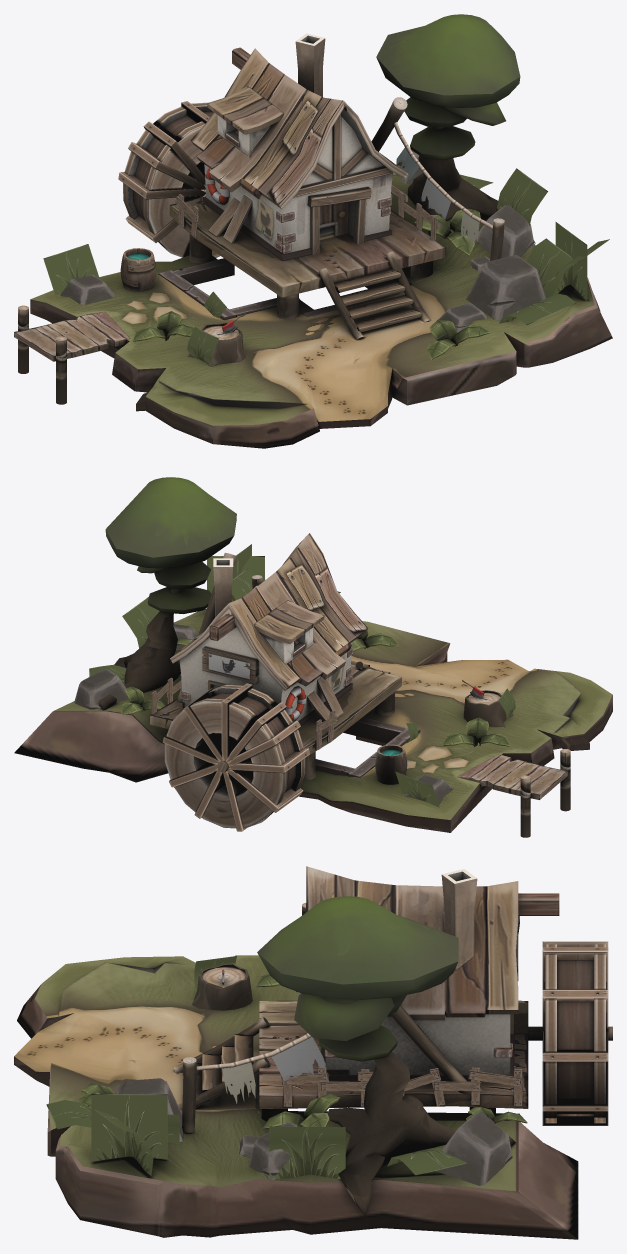
3 renders of one model, top to bottom at view 1: azimuth 30°, elevation 25°; view 2: azimuth 150°, elevation 25°; view 3: azimuth 270°, elevation 25°, orthographic. The views are drawn at different scales.
Parts seen in each view (by area): view 1: m_Ground, m_House, m_Tree, m_Grass, m_Rock, m_Pier, m_WoodenBeams, m_Plants_Material #155_0, m_Clothline, m_StoneLedge, m_Barrel, m_Fence (+2 smaller); view 2: m_House, m_Ground, m_Tree, m_Pier, m_Grass, m_Plants_Material #155_0, m_Rock, m_StoneLedge, m_Log, m_Barrel, m_Fence, m_WoodenBeams (+1 smaller); view 3: m_Ground, m_House, m_Tree, m_Grass, m_Rock, m_Clothline, m_Fence, m_Log, m_Plants_Material #155_0, m_StoneLedge.
Part boxes in pixels (x1,y1,x2,y2): m_Ground: (30,175,612,448); m_House: (118,33,446,340); m_Tree: (376,14,520,235); m_Grass: (43,168,609,366); m_Rock: (60,150,546,332); m_Pier: (14,305,129,404); m_WoodenBeams: (208,113,391,254); m_Plants_Material #155_0: (132,165,490,359); m_Clothline: (371,97,504,260); m_StoneLedge: (158,258,399,319); m_Barrel: (120,248,155,291); m_Fence: (175,184,439,240); m_House: (149,533,401,831); m_Ground: (14,608,612,832); m_Tree: (98,477,236,709); m_Pier: (457,749,570,837); m_Grass: (89,544,515,807); m_Plants_Material #155_0: (121,622,510,746); m_Rock: (74,624,453,804); m_StoneLedge: (315,715,420,777); m_Log: (462,680,513,726); m_Barrel: (375,744,407,784); m_Fence: (151,673,336,749); m_WoodenBeams: (307,677,343,721); m_Ground: (14,955,578,1239); m_House: (174,866,612,1125); m_Tree: (257,896,515,1217); m_Grass: (46,956,467,1178); m_Rock: (115,1078,512,1185); m_Clothline: (182,1005,470,1133); m_Fence: (281,1067,522,1107); m_Log: (192,963,252,1010); m_Plants_Material #155_0: (79,973,527,1128); m_StoneLedge: (256,1060,519,1120).
Bounding box in the file's own units: 5.78 × 2.98 × 5.
22 materials, 22 textured.
